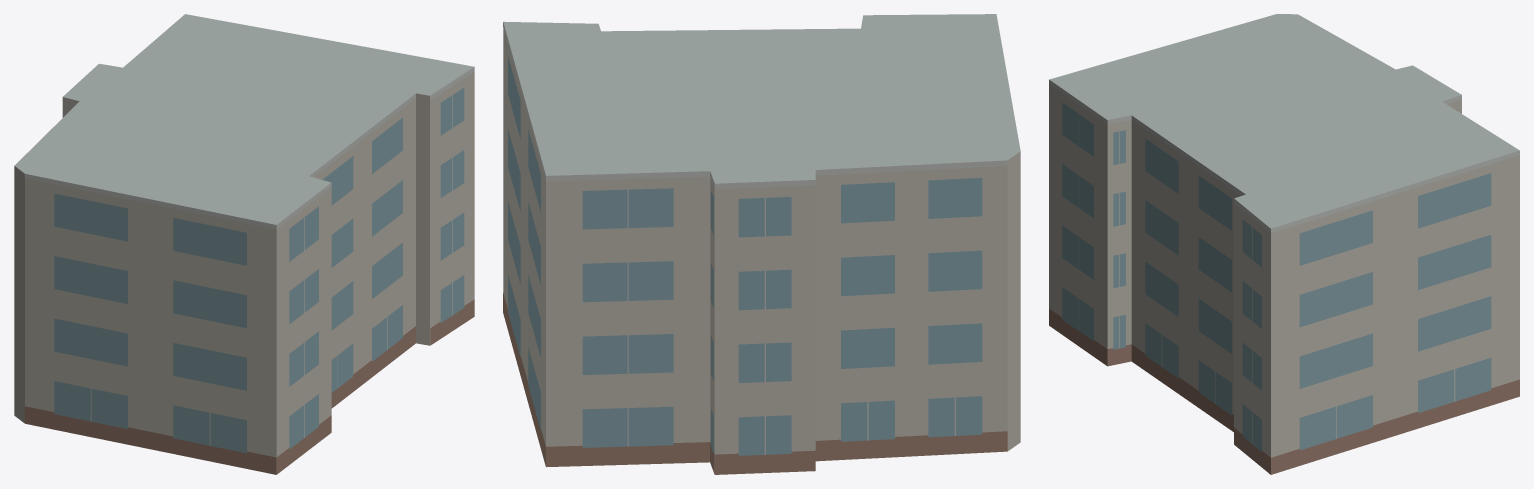
File: survey-upis-32907664.glb
3 views of the same model, side by side, from view 1: azimuth 30°, elevation 25°; view 2: azimuth 150°, elevation 25°; view 3: azimuth 270°, elevation 25° (orthographic). The views are drawn at different scales.
Parts seen in each view (by area): view 1: survey-upis-32907664.tmp; view 2: survey-upis-32907664.tmp; view 3: survey-upis-32907664.tmp.
Boxes of the visible parts, box(x1,y1,x2,y2) form: survey-upis-32907664.tmp: box(14, 14, 474, 474); survey-upis-32907664.tmp: box(503, 14, 1020, 474); survey-upis-32907664.tmp: box(1049, 14, 1519, 474).
Size of the model in its own units: 23.96 by 12.8 by 22.19.
